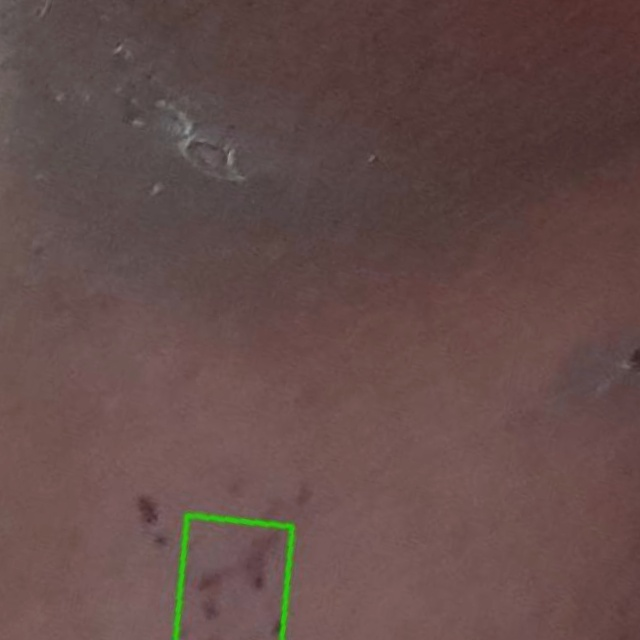Eczema: (175, 516, 293, 639)
